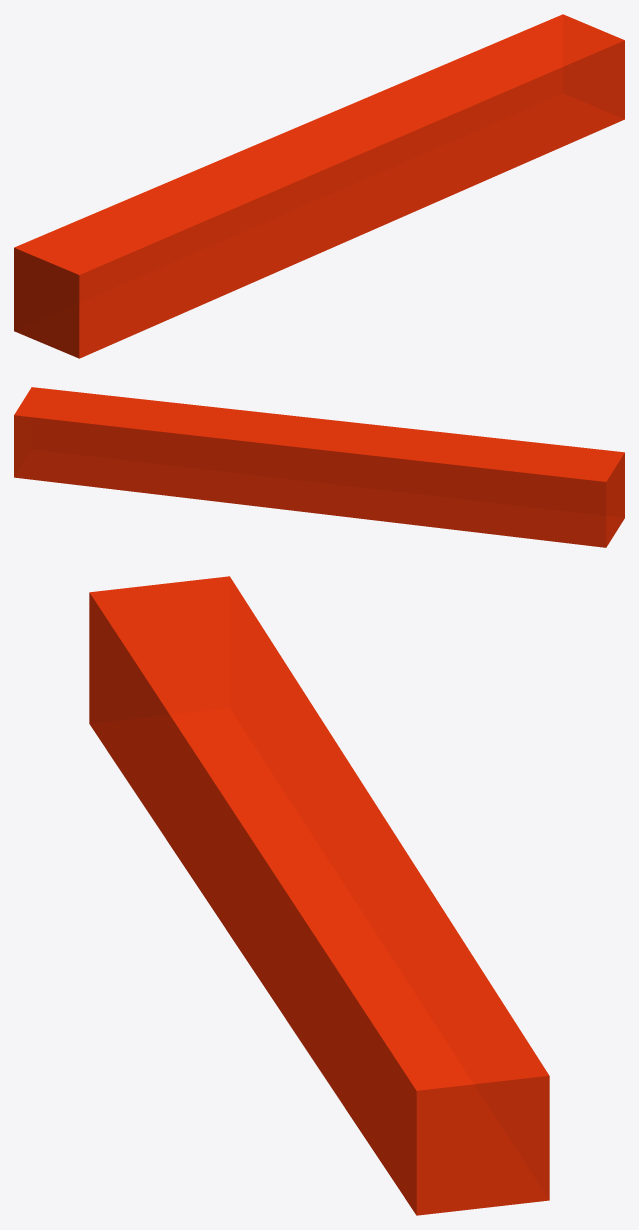
File: Event_421278790_EErechit_23.fbx
3 views of the same model, one above another, from view 1: azimuth 30°, elevation 25°; view 2: azimuth 150°, elevation 25°; view 3: azimuth 270°, elevation 25° (orthographic). The views are drawn at different scales.
Parts seen in each view (by area): view 1: Model; view 2: Model; view 3: Model.
Boxes of the visible parts, <box> form: Model: <box>14,14,624,358</box>; Model: <box>14,387,624,547</box>; Model: <box>89,576,549,1215</box>.
Size of the model in its own units: 0.6427 by 0.077 by 0.2425.
